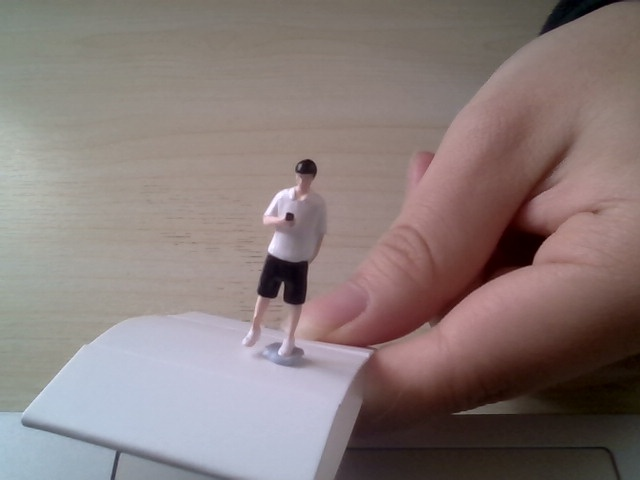walk: (237, 149, 333, 367)
